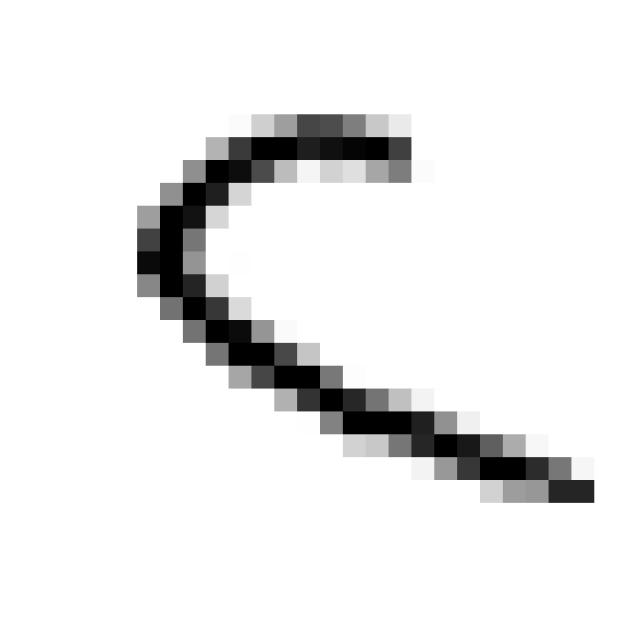2 -two-: (121, 94, 608, 531)
